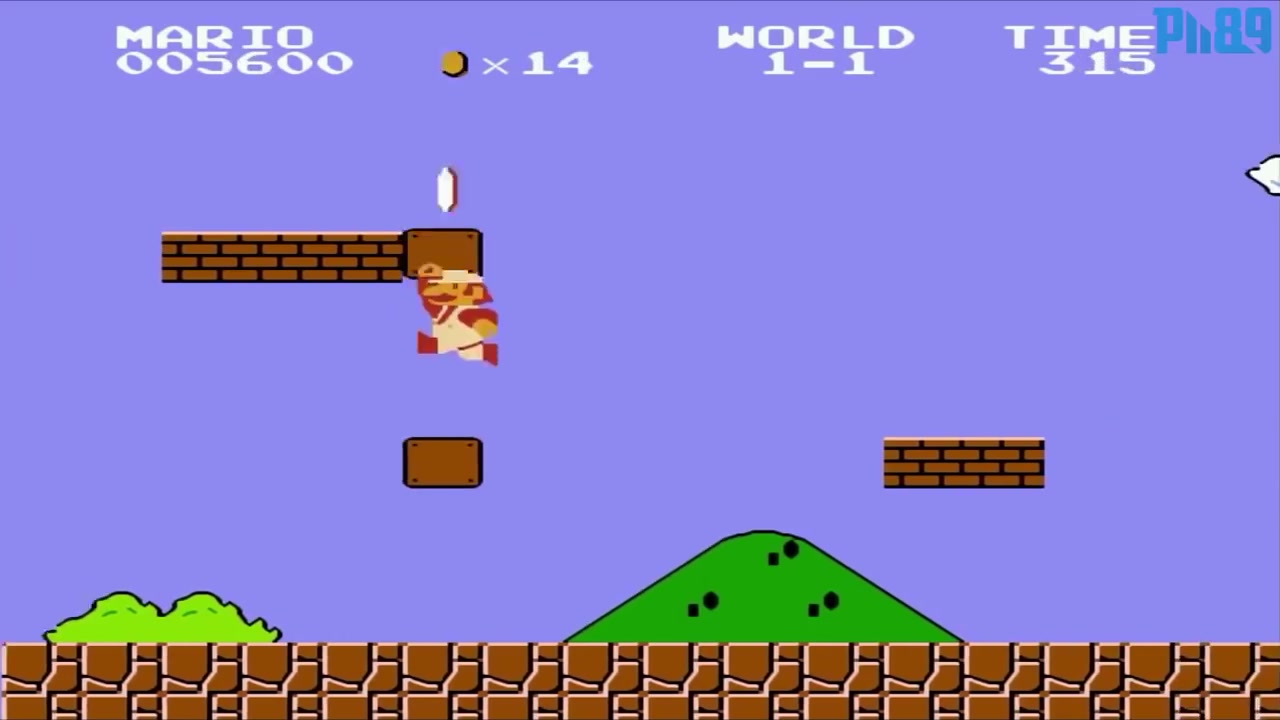mario: (406, 259, 506, 369)
